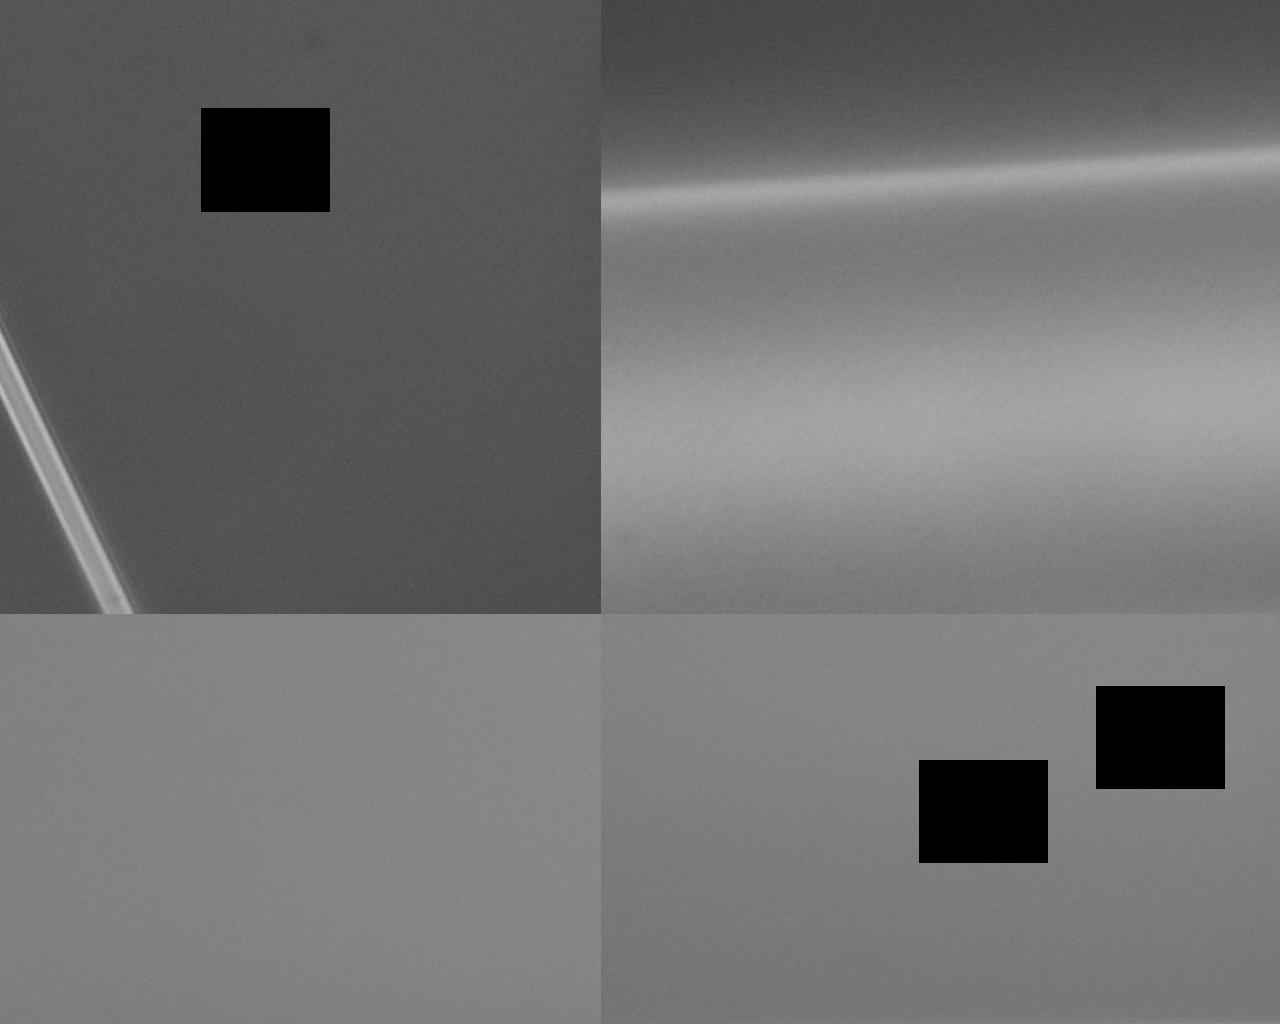fiber: (409, 597, 946, 1024), (517, 0, 715, 552), (227, 0, 409, 552), (159, 552, 328, 1024)
